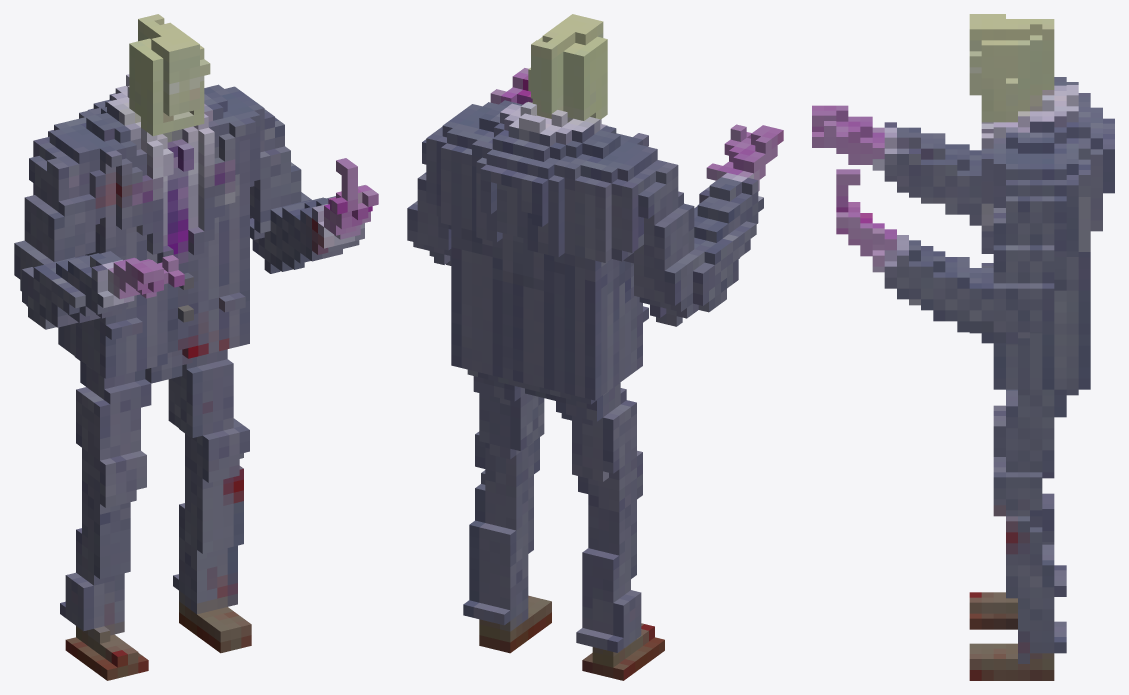
The model's file is necromancer.voxel.glb.
The picture shows the model from 3 angles, left to right: view 1: azimuth 30°, elevation 25°; view 2: azimuth 150°, elevation 25°; view 3: azimuth 270°, elevation 25°; orthographic projection.
Parts seen in each view (by area): view 1: Voxelized; view 2: Voxelized; view 3: Voxelized.
Boxes of the visible parts, <box> form: Voxelized: <box>14,14,378,680</box>; Voxelized: <box>407,14,783,680</box>; Voxelized: <box>812,14,1114,680</box>.
Size of the model in its own units: 0.8904 by 1.88 by 0.8244.
